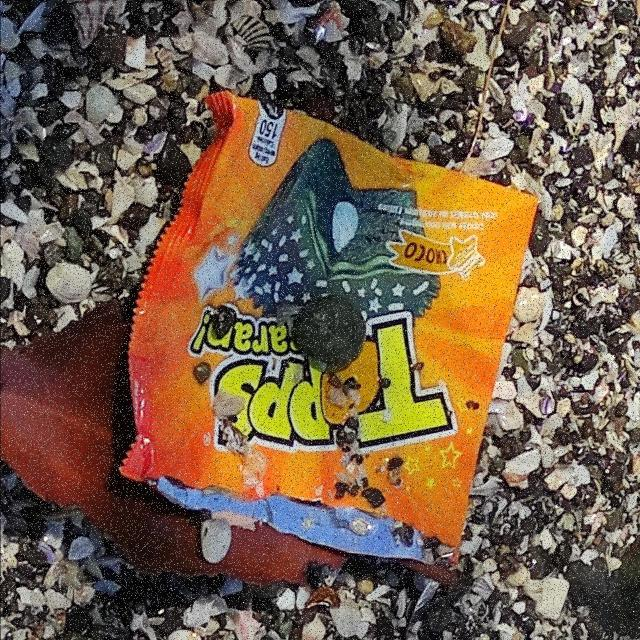plastic_waste: (110, 87, 547, 576)
